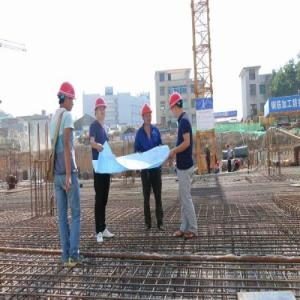red: (59, 83, 77, 112), (170, 91, 185, 118), (95, 98, 108, 122), (142, 104, 154, 127)
